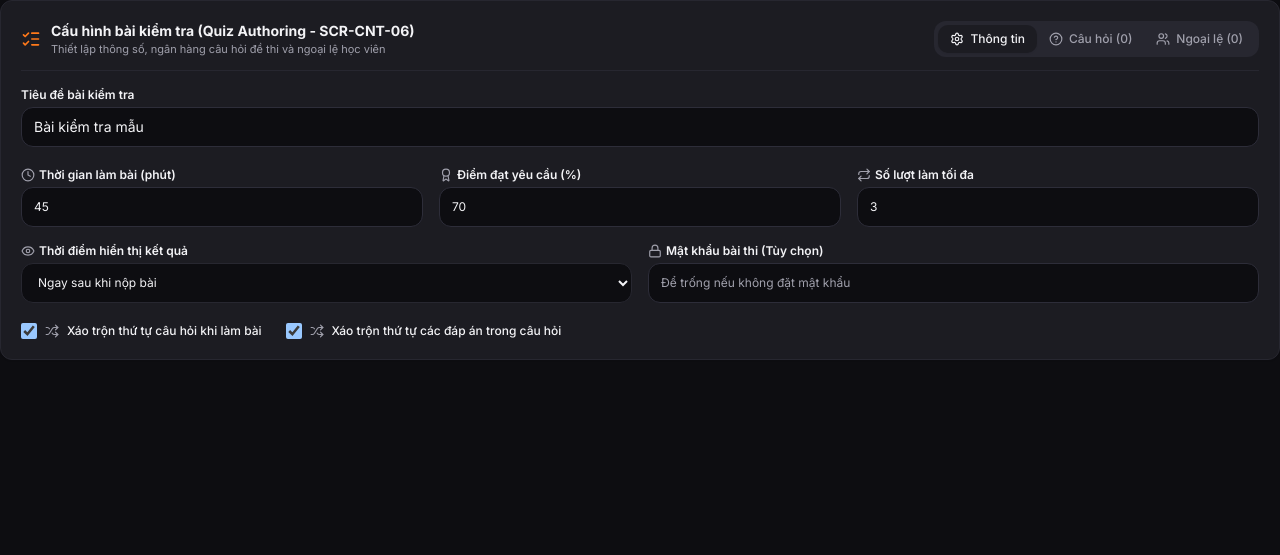
Test case: T-S7-FE-01: Question Bank & Quiz Authoring Suite › QuizBlockEditor: switches between 3 tabs (Info, Questions, Exceptions)
Expected: the text "Thời gian làm bài (phút)" is shown, [21, 166, 176, 182]
// Switch to Questions tab
Click the button "Câu hỏi (0)" at (1091, 39), box [1037, 25, 1144, 53]
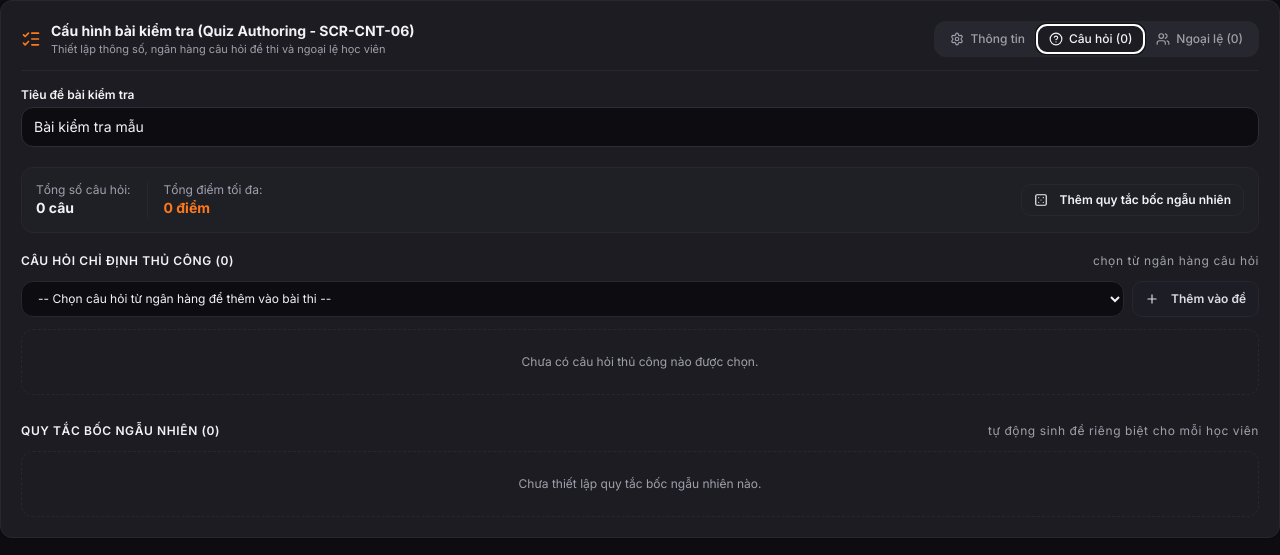
Result: the text "Câu hỏi chỉ định thủ công (0)" is shown at [21, 252, 234, 268]
Result: the button "Thêm quy tắc bốc ngẫu nhiên" is shown at [1020, 184, 1244, 216]
Click the button "Ngoại lệ (0)" at (1200, 39), box [1144, 25, 1255, 53]
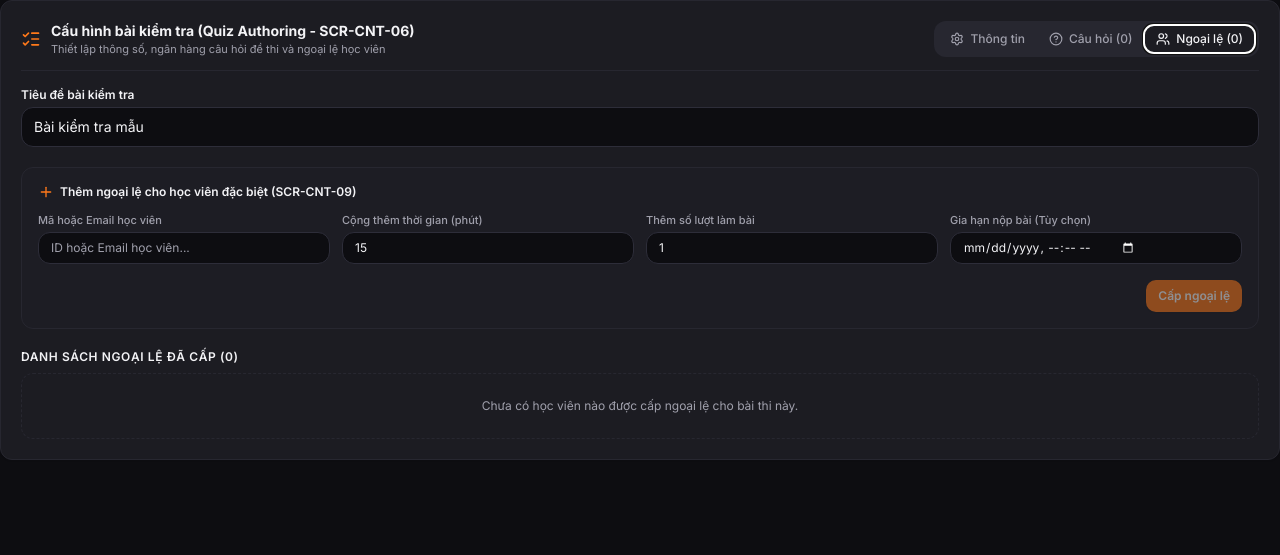
Result: the heading "Thêm ngoại lệ cho học viên đặc biệt (SCR-CNT-09)" is shown at [38, 184, 356, 200]
